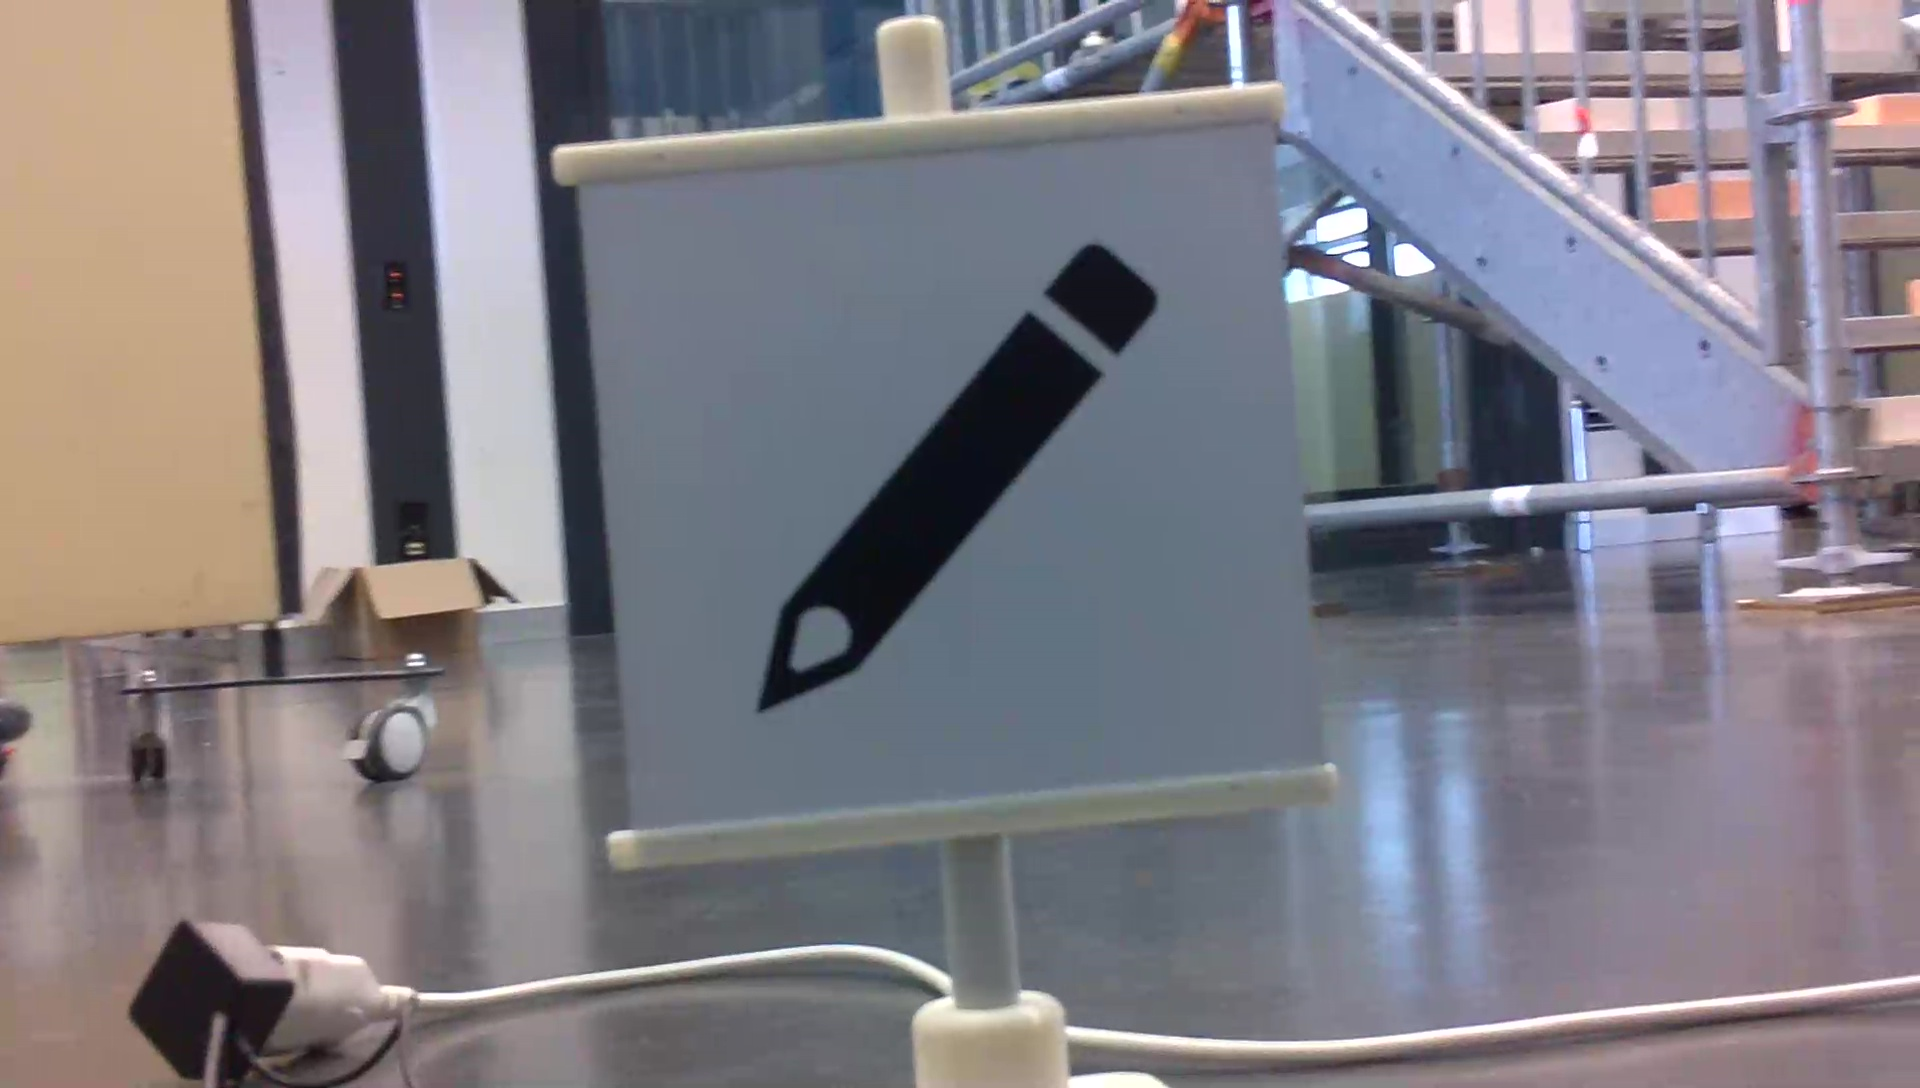pencil: (736, 232, 1164, 723)
